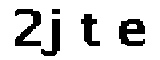2: (13, 6, 45, 48)
e: (115, 14, 151, 53)
j: (42, 2, 62, 60)
t: (76, 11, 102, 52)
